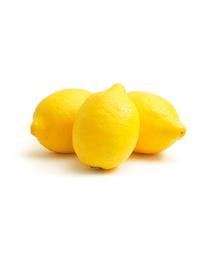lemon: (71, 82, 141, 172), (31, 87, 94, 155), (127, 92, 186, 157)
